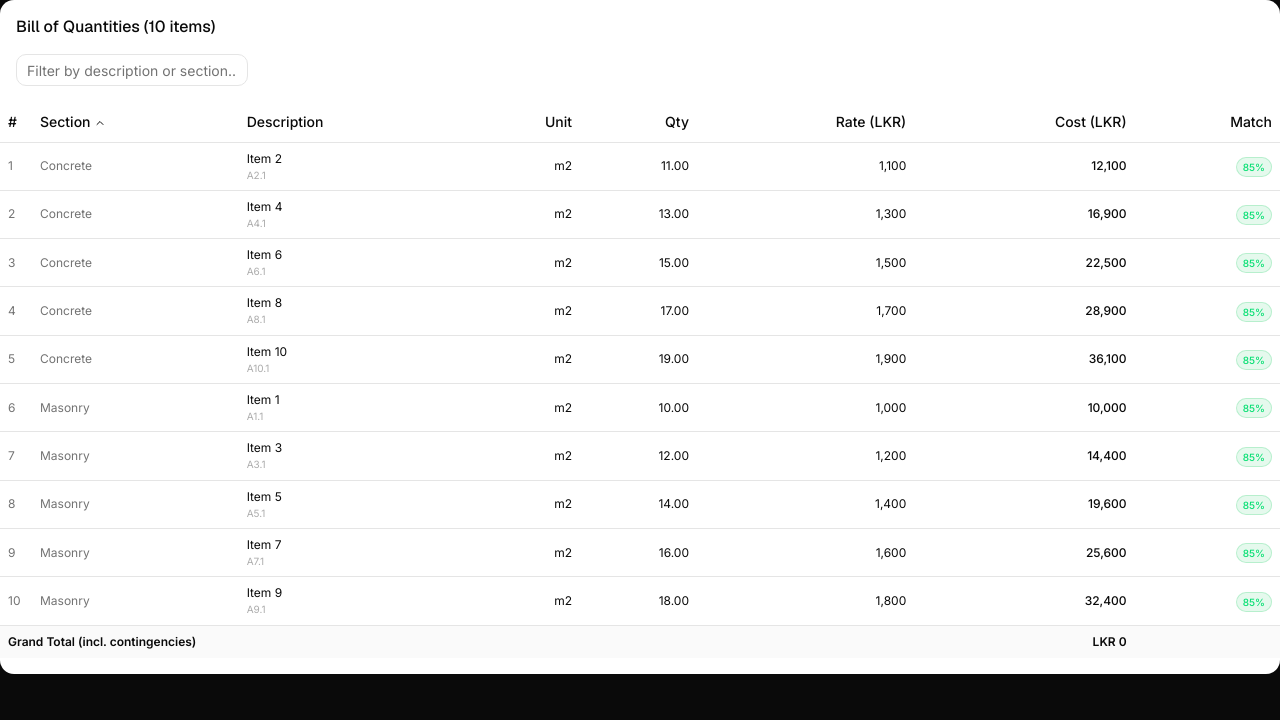
Test: FullBoqTable › filters items by description when filter input changes
The width and height of the screenshot is (1280, 720).
Type "Item 5" into the field with placeholder "Filter by description or section..." at coordinates (132, 70), box [16,54,248,86]
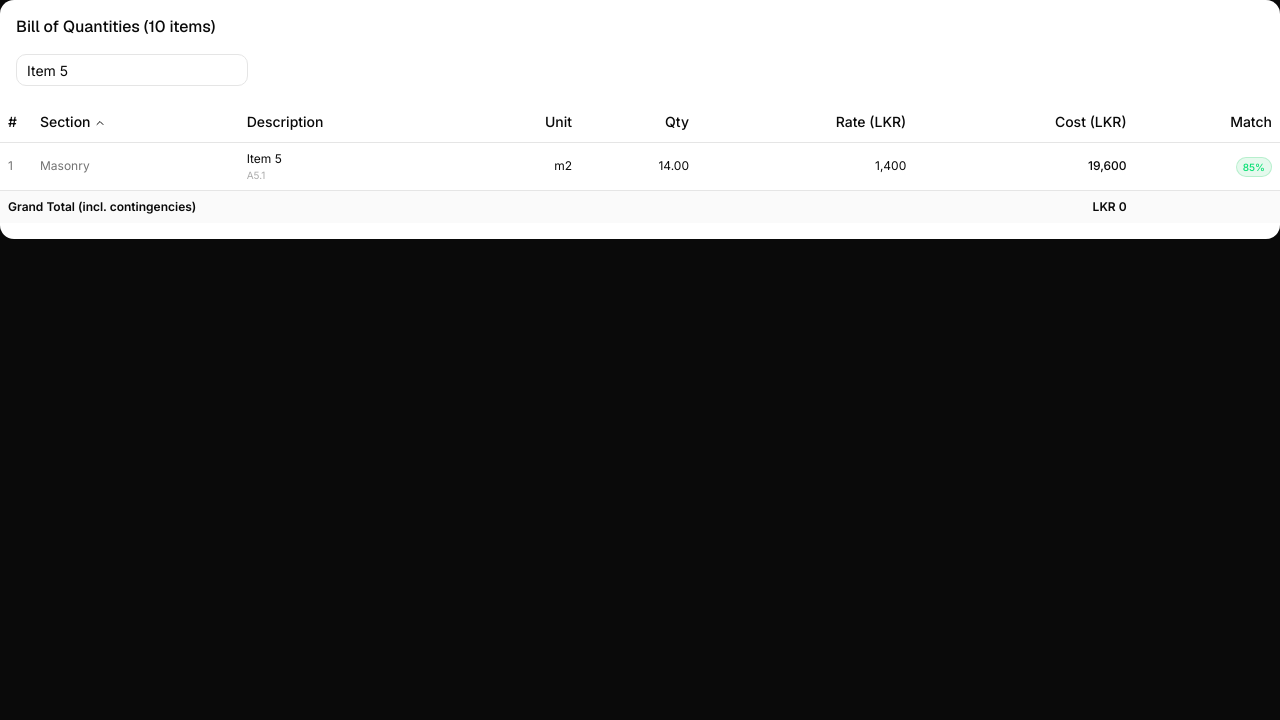
Expected: the text "Item 5" is shown, [247,150,282,166]
Expected: the text "Item 1" is gone
